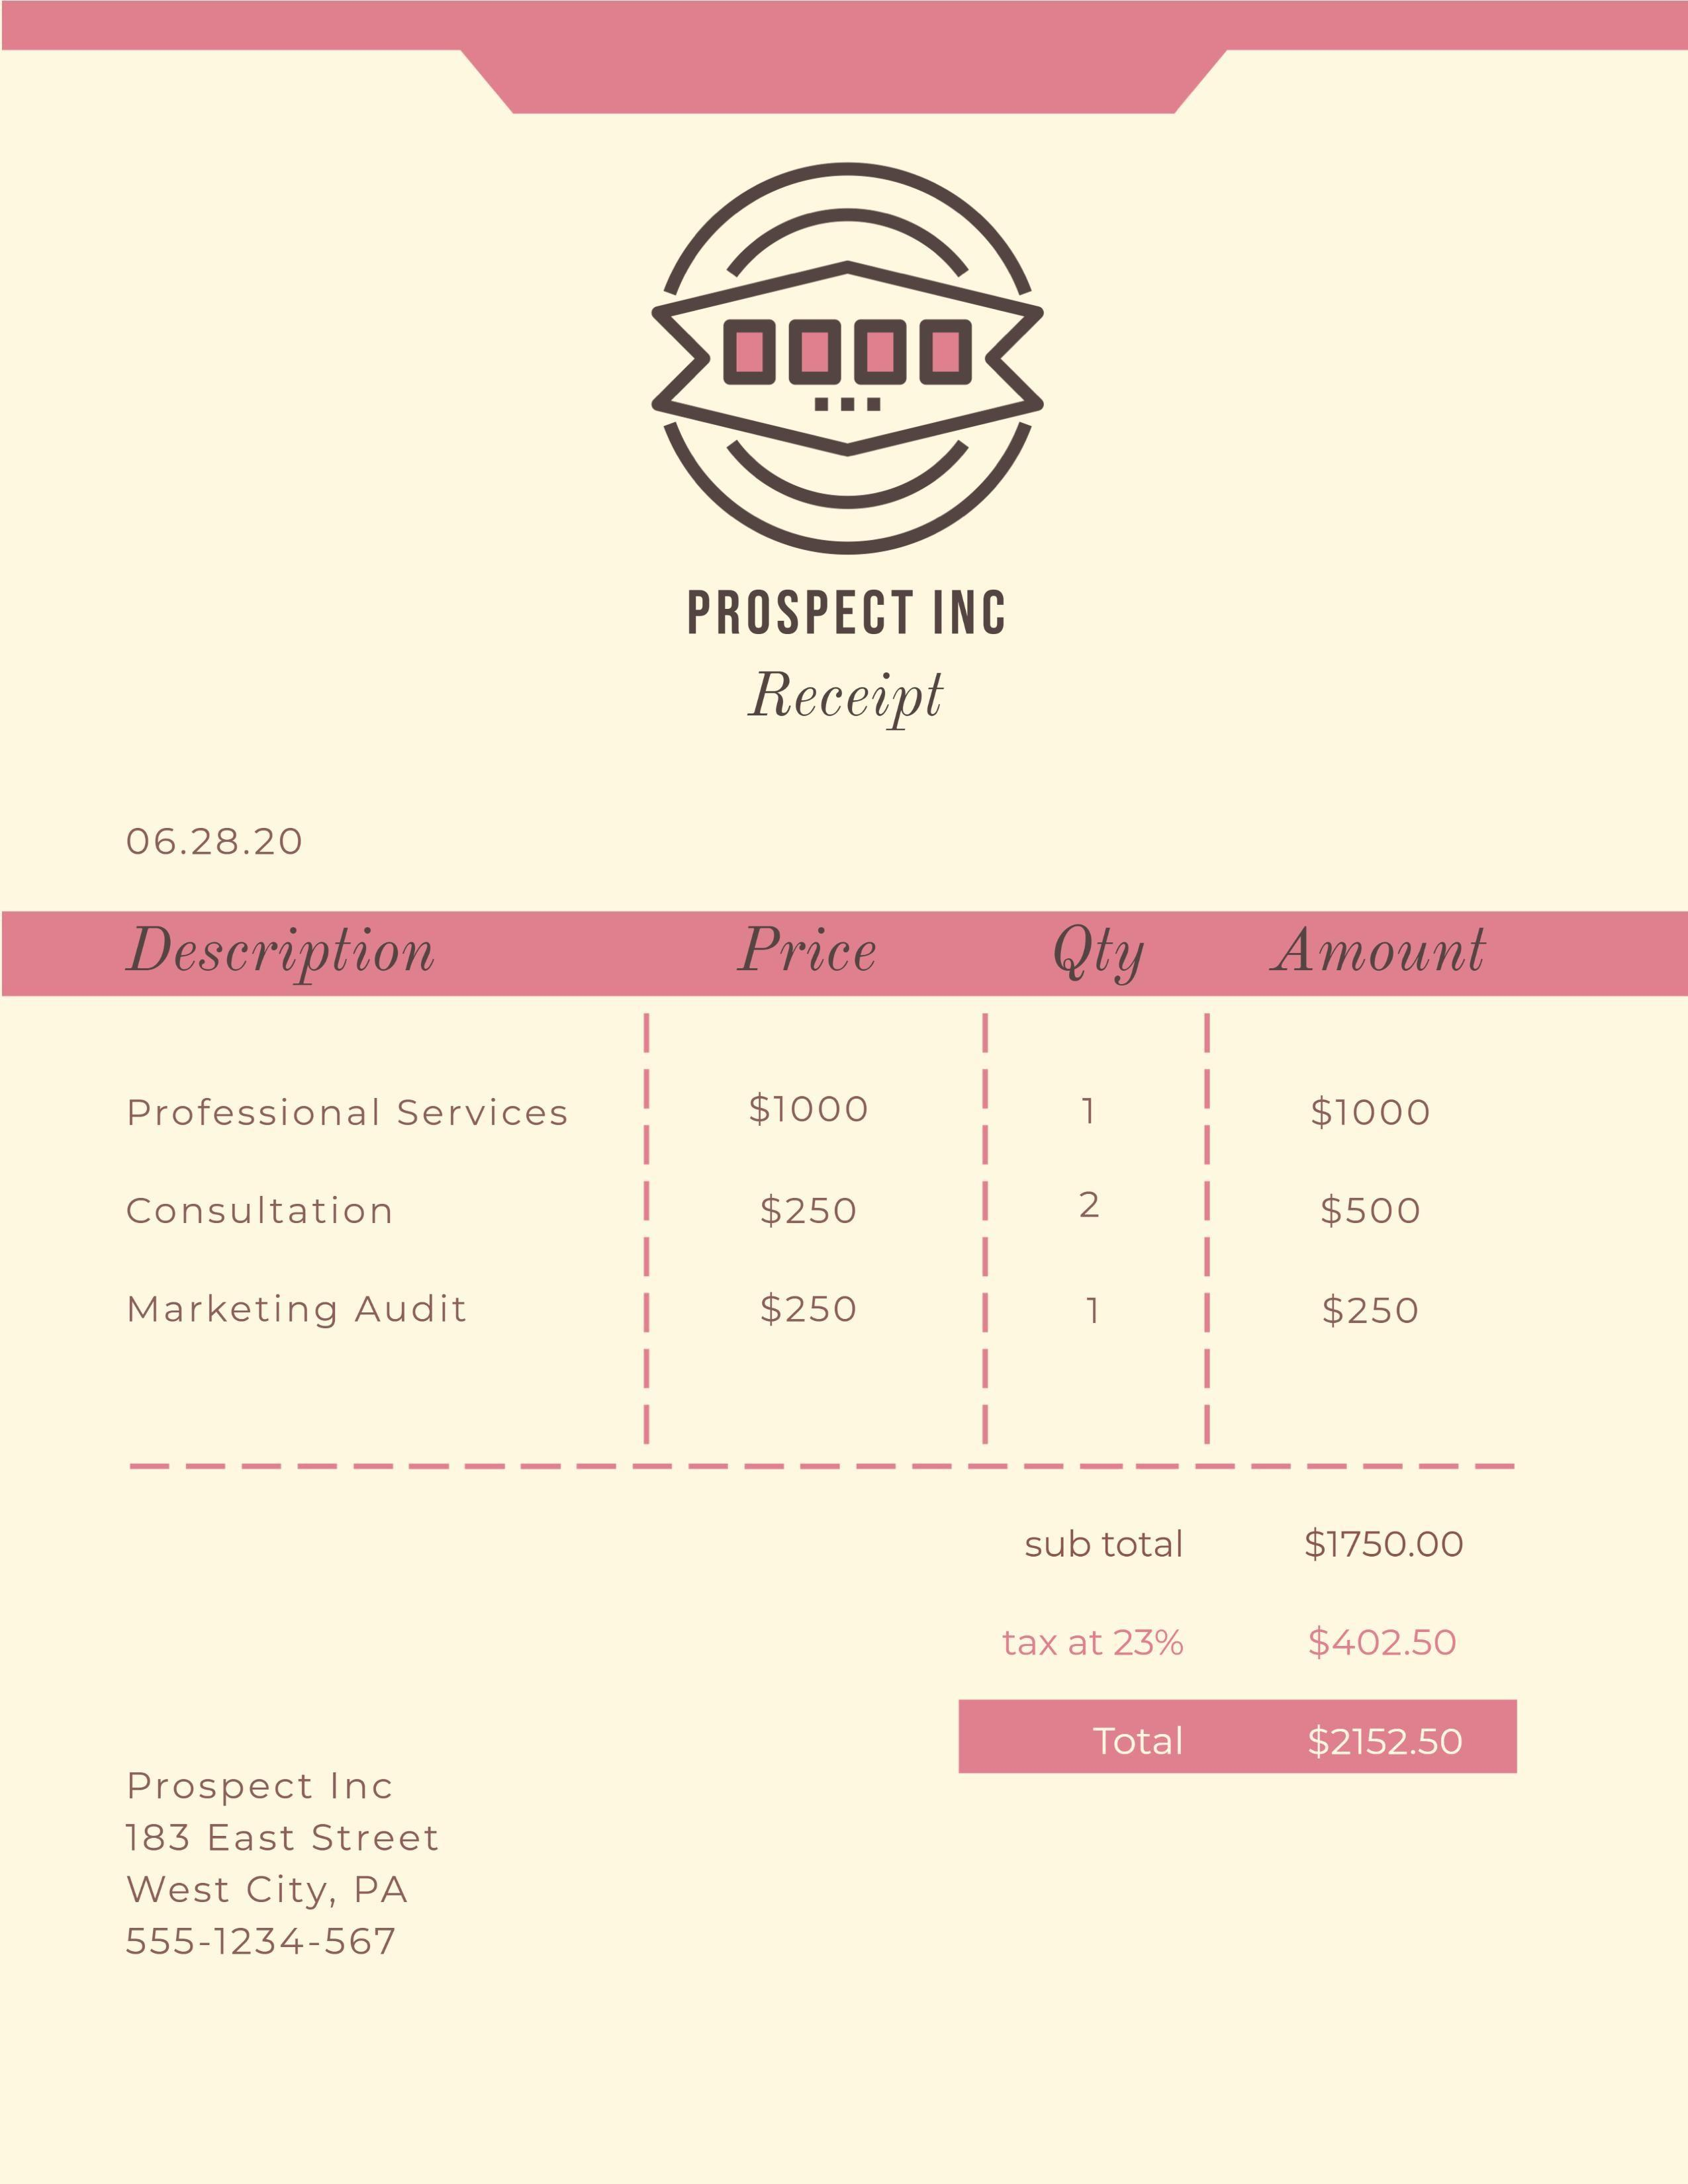ROI: (102, 914, 1521, 1439), (957, 1509, 1481, 1766), (111, 1751, 477, 1996), (97, 801, 352, 873)
